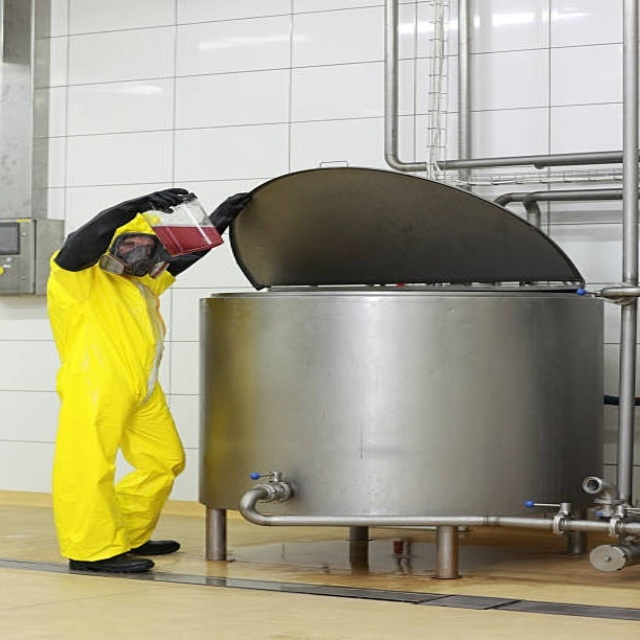Guantes: (94, 182, 188, 223), (207, 185, 260, 226)
Mascara: (99, 232, 172, 279)
